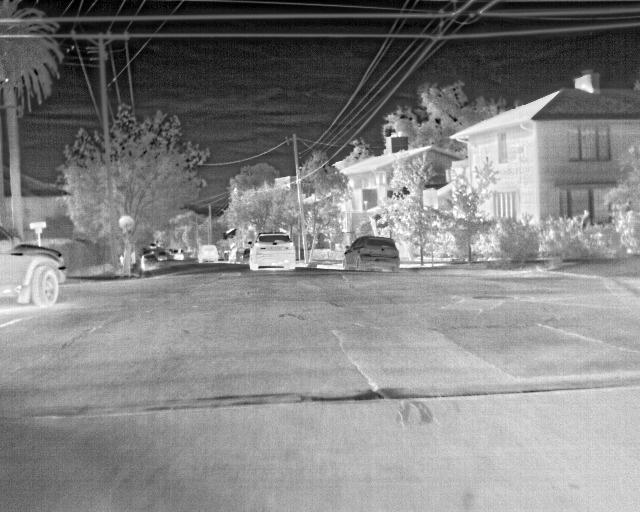car: (0, 220, 68, 310), (342, 234, 397, 271), (248, 232, 295, 271), (199, 244, 219, 260), (143, 253, 157, 270), (171, 245, 185, 261), (153, 251, 168, 263)
